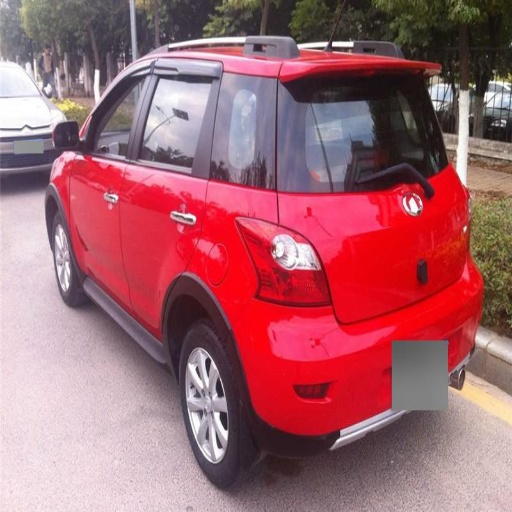back_bumper: (245, 282, 478, 434)
back_glass: (335, 91, 439, 183)
back_left_door: (123, 59, 262, 326)
trunk: (279, 179, 454, 323)
